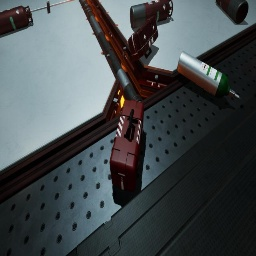0: (177, 51, 240, 99)
FirstAidBox ,: (109, 100, 144, 192), (128, 15, 158, 61)
NitrogenTank ,: (130, 0, 173, 29), (0, 6, 33, 36), (216, 0, 249, 24)
